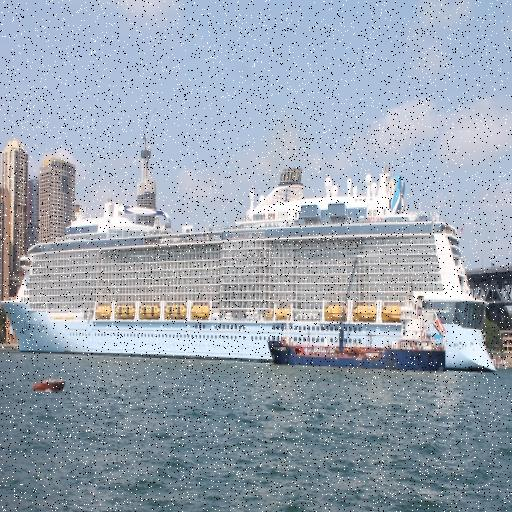cruises: (1, 165, 493, 378)
